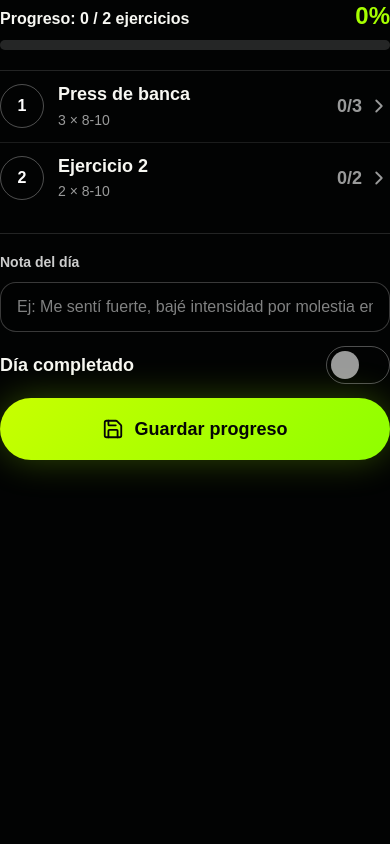
DailyLogForm exercise list and sheet › tapping a list row opens the mobile sheet for that exercise
Click the button named "Ejercicio 2," at point(22, 178), box [0,142,389,213]
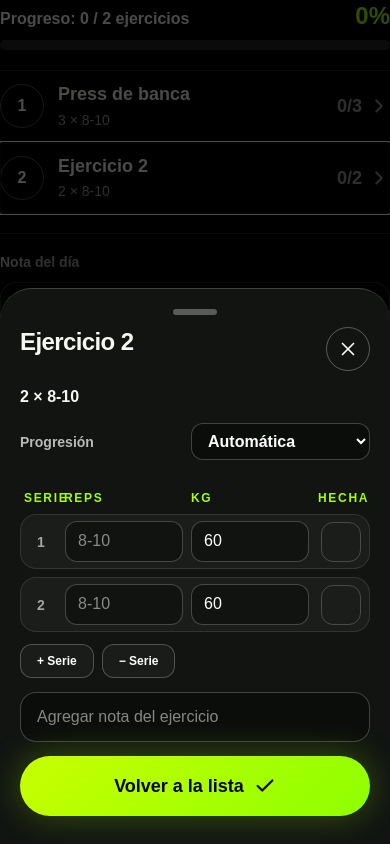
expect the heading "Ejercicio 2" is shown: met, box [20,327,134,357]
expect the number of list items is 2: met, box [20,514,370,569]; [20,577,370,632]
